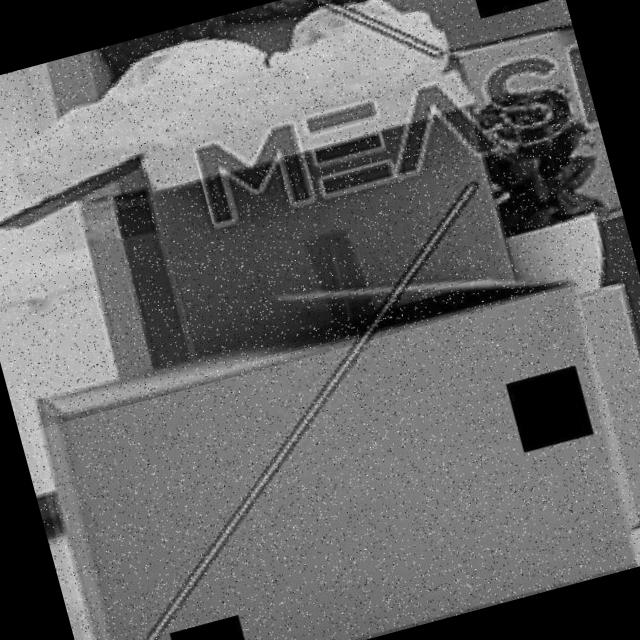box: (0, 0, 610, 429), (15, 238, 640, 640)
